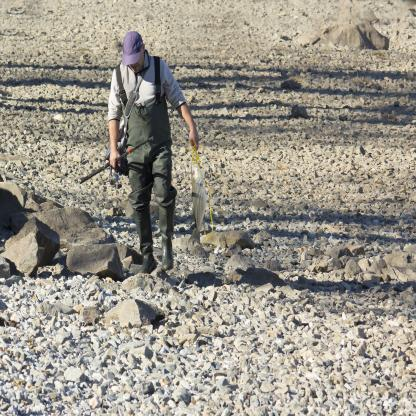person: (104, 23, 207, 284)
